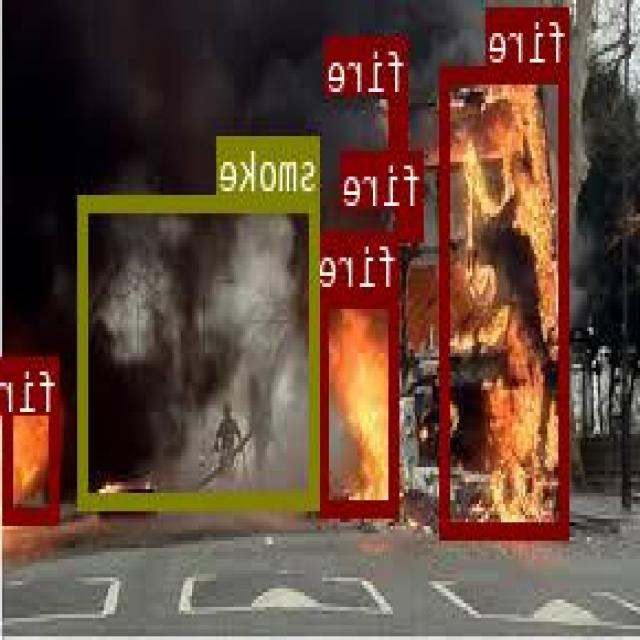fire: (442, 65, 570, 535), (321, 289, 401, 514), (4, 357, 62, 519), (392, 94, 409, 170), (400, 208, 424, 236)
smoke: (81, 194, 321, 505)
